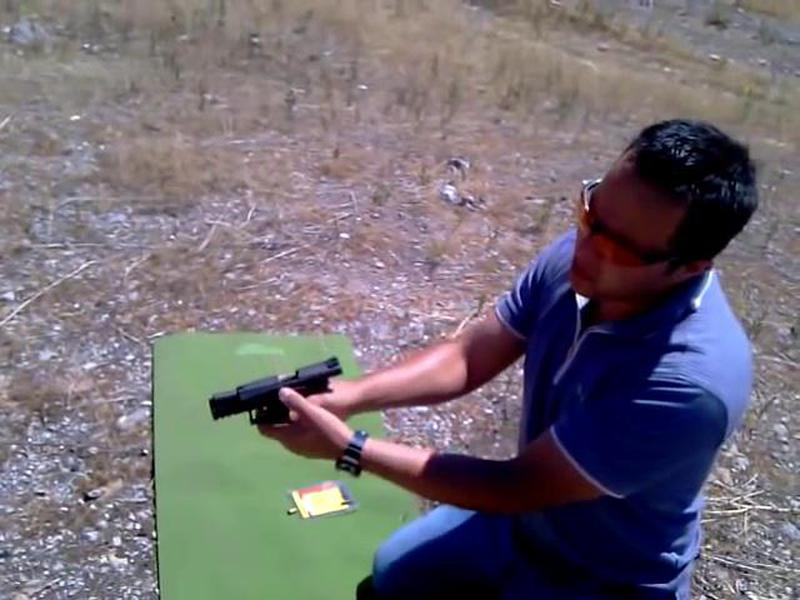Pistola: (205, 349, 351, 451)
